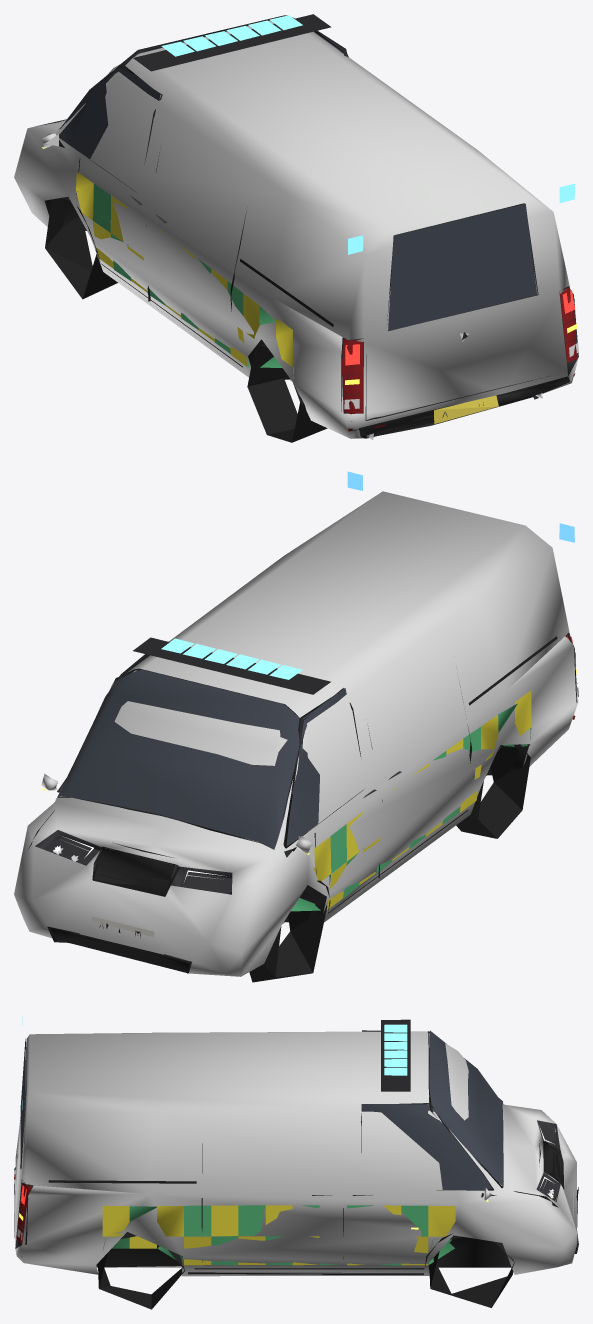
The model's file is civ_ambulance_lod1.glb.
3 renders of one model, top to bottom at view 1: azimuth 30°, elevation 25°; view 2: azimuth 150°, elevation 25°; view 3: azimuth 270°, elevation 25°, orthographic. The views are drawn at different scales.
Visible parts, largest first — view 1: civ_ambulance.001; view 2: civ_ambulance.001; view 3: civ_ambulance.001.
Part boxes in pixels (x1=…): civ_ambulance.001: x1=14, y1=14, x2=578, y2=442; civ_ambulance.001: x1=14, y1=471, x2=578, y2=982; civ_ambulance.001: x1=14, y1=1016, x2=578, y2=1309.
Size of the model in its own units: 2.25 by 2.09 by 5.
